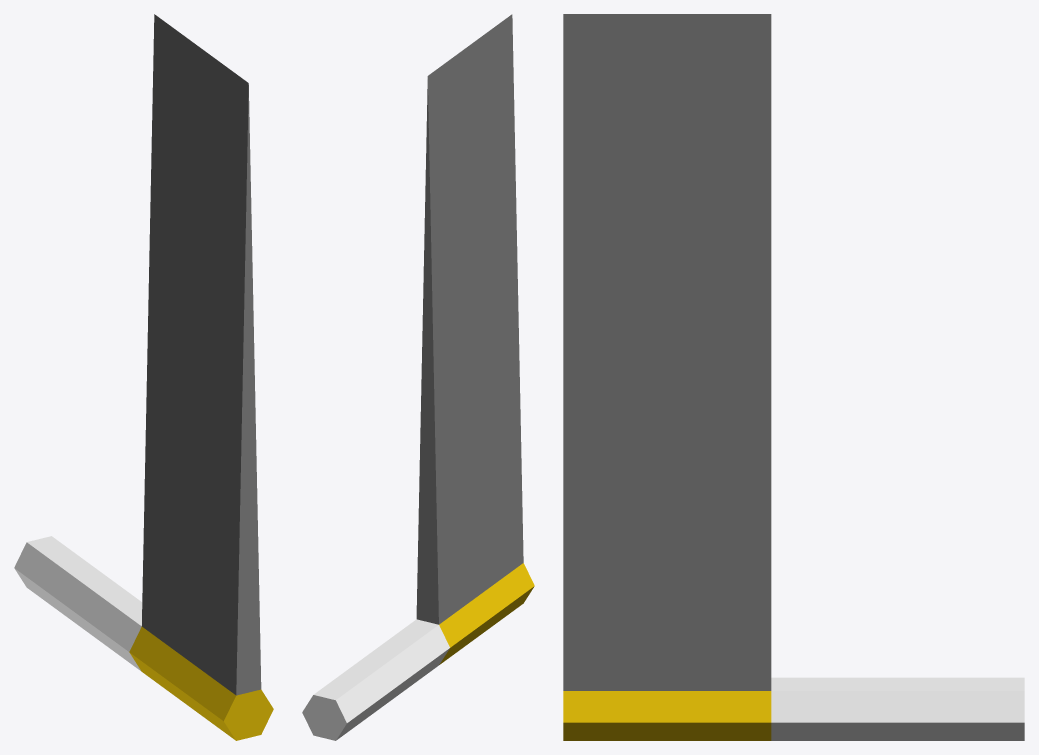
Rendered from swing_diverter.dae.
3 views of the same model, side by side, from view 1: azimuth 30°, elevation 25°; view 2: azimuth 150°, elevation 25°; view 3: azimuth 270°, elevation 25° (orthographic). The views are drawn at different scales.
Visible parts, largest first — view 1: instance_0_002, instance_0_001, instance_0; view 2: instance_0_002, instance_0_001, instance_0; view 3: instance_0_002, instance_0_001, instance_0.
Part boxes in pixels (left/top/right/bottom): instance_0_002: left=142, top=14, right=261, bottom=695; instance_0_001: left=14, top=536, right=142, bottom=671; instance_0: left=129, top=626, right=273, bottom=740; instance_0_002: left=416, top=14, right=523, bottom=624; instance_0_001: left=302, top=619, right=449, bottom=740; instance_0: left=439, top=563, right=534, bottom=664; instance_0_002: left=563, top=14, right=771, bottom=690; instance_0_001: left=771, top=677, right=1024, bottom=740; instance_0: left=563, top=691, right=771, bottom=740.
Bounding box in the file's own units: 27.17 × 339 × 197.
